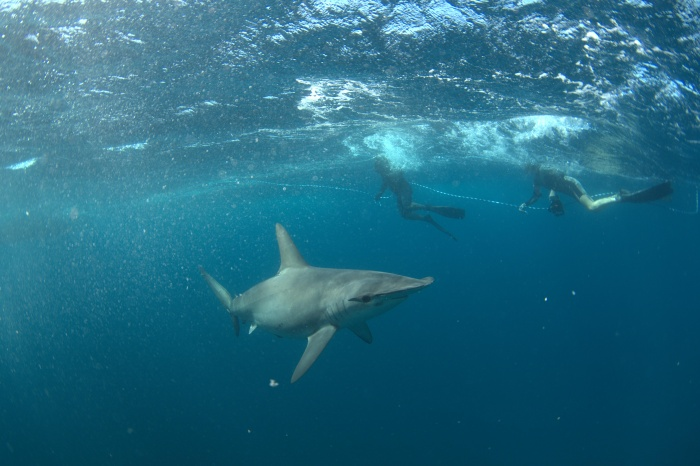Hammer: (183, 210, 461, 396)
